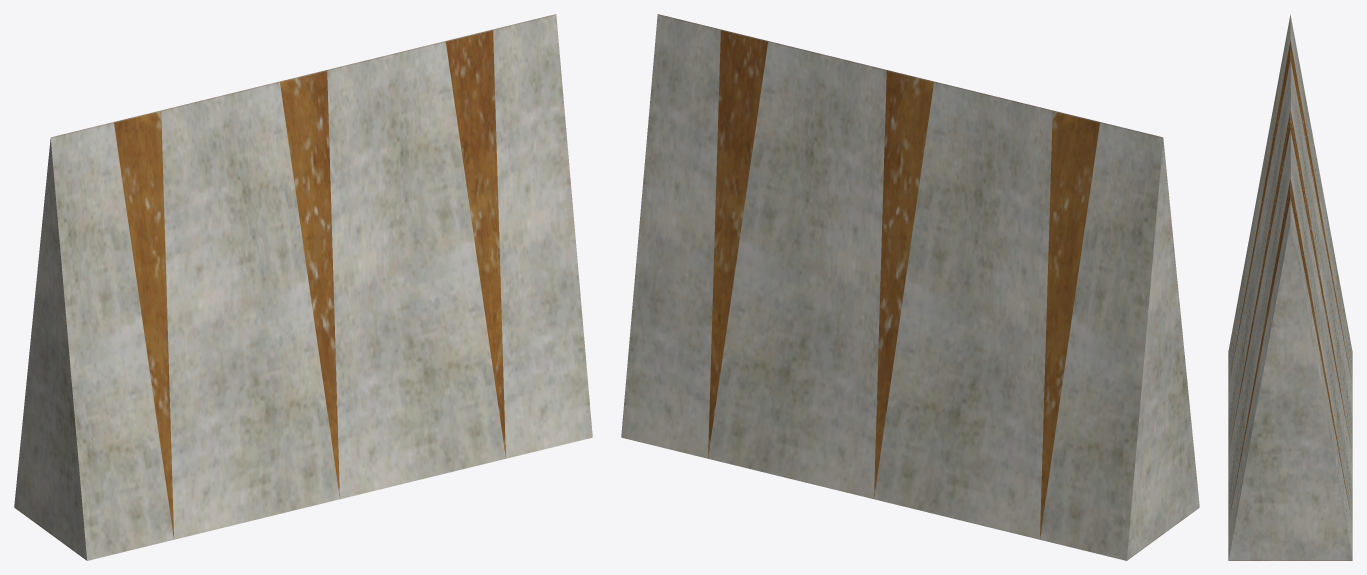
The model's file is mun_all_military_wall_med_rebl_s01_l2.fbx.
3 renders of one model, left to right at view 1: azimuth 30°, elevation 25°; view 2: azimuth 150°, elevation 25°; view 3: azimuth 270°, elevation 25°, orthographic. The views are drawn at different scales.
Visible parts, largest first — view 1: mesh_node; view 2: mesh_node; view 3: mesh_node.
Boxes of the visible parts, x1,y1,x2,y2 form: mesh_node: [14, 14, 592, 560]; mesh_node: [621, 14, 1199, 560]; mesh_node: [1228, 14, 1352, 560].
Size of the model in its own units: 8 by 6 by 2.
1 material, 1 textured.
